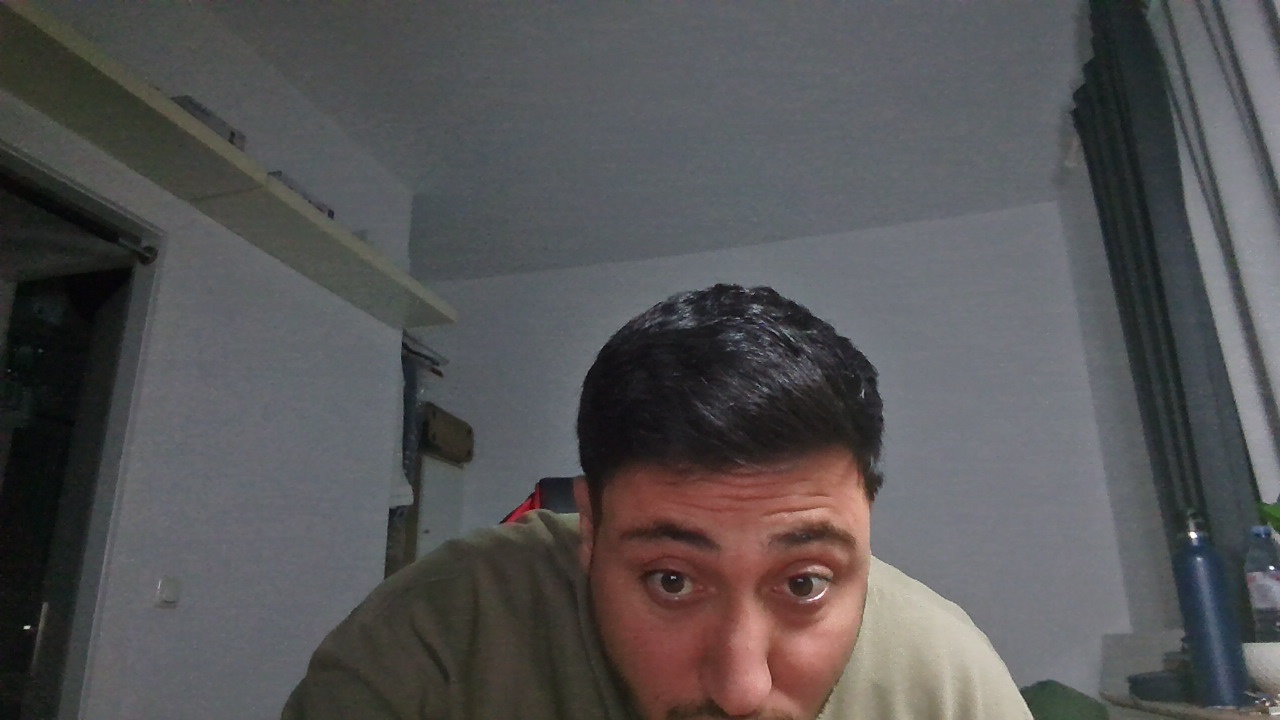Wasserflasche: (1144, 491, 1251, 718)
me: (494, 277, 907, 720)
